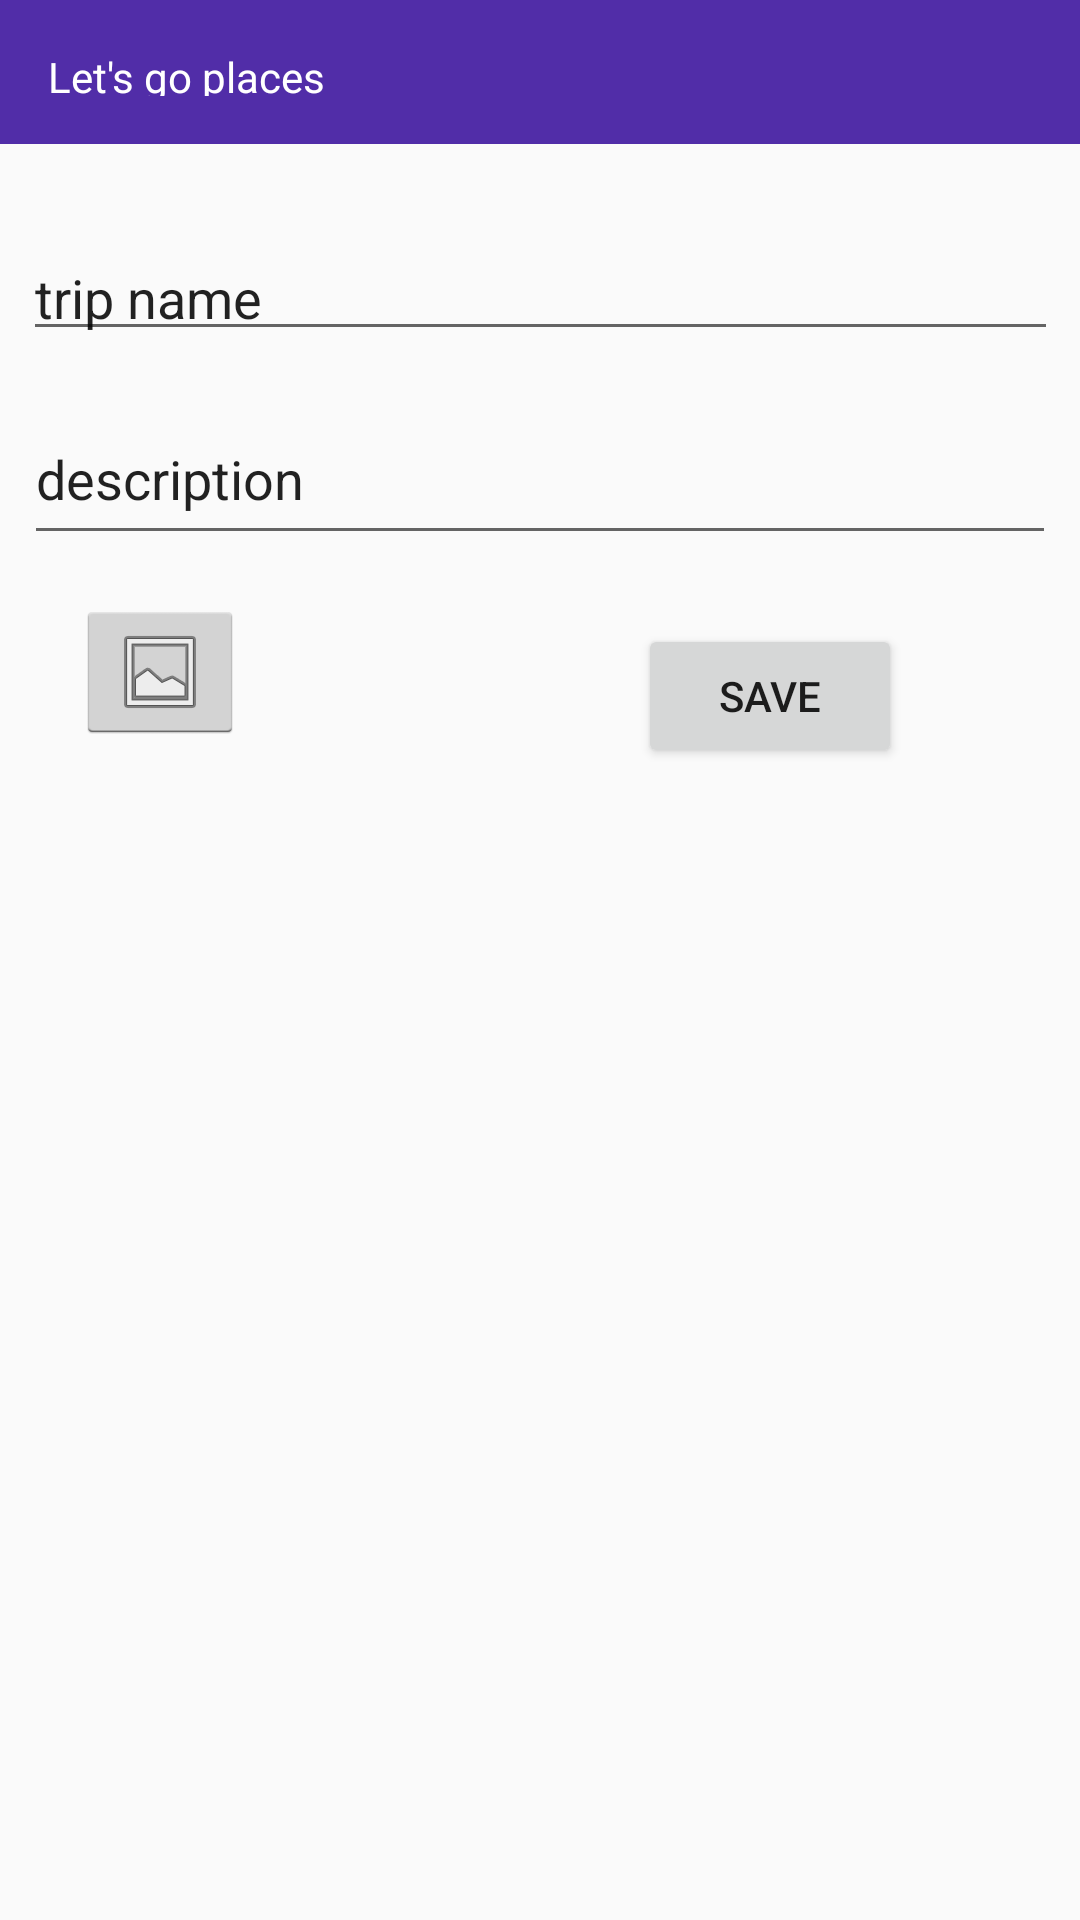

Where to tap for icons on this 1080 × 1920 app screen, as [x,y]:
gallery: [160,673]
